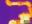Hotspot: (5, 0, 31, 6), (18, 13, 30, 23), (8, 20, 17, 23)
